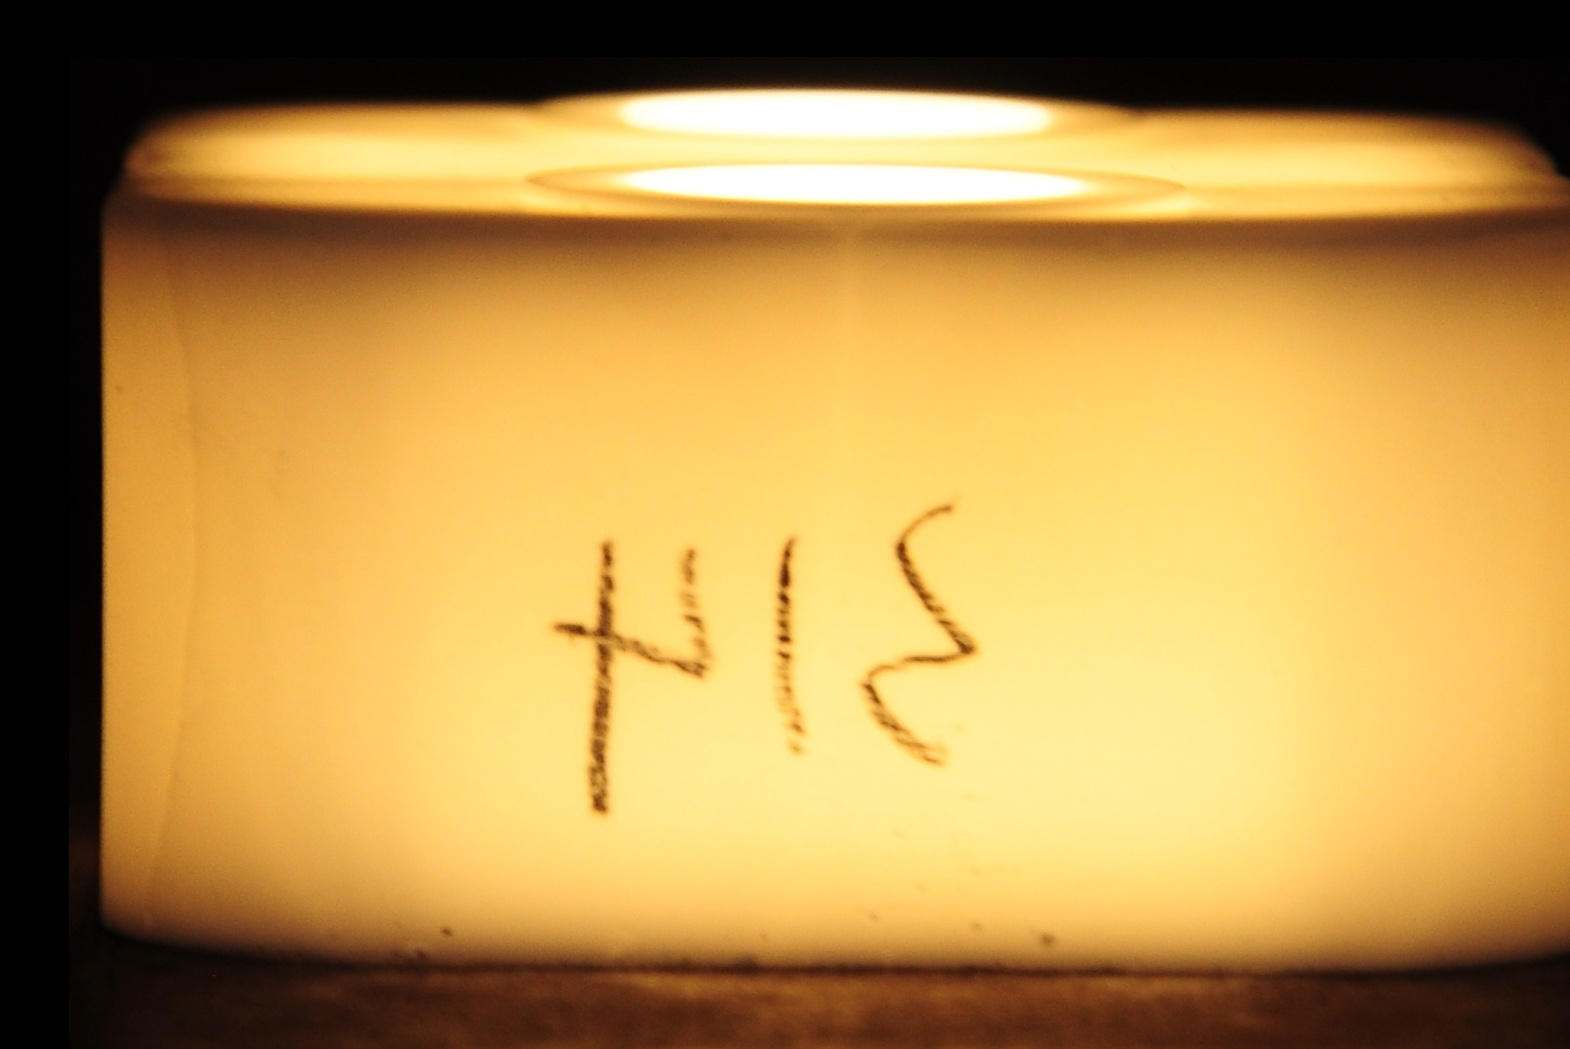flaw: (122, 203, 213, 927)
